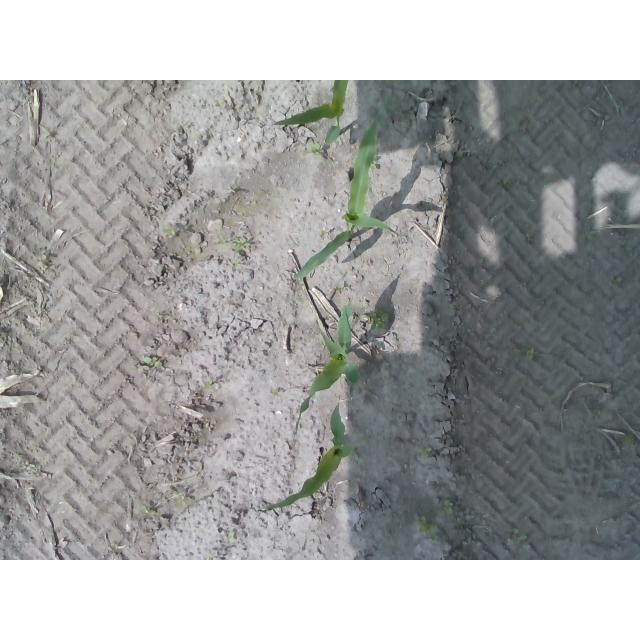Maize: (295, 101, 398, 280), (259, 402, 365, 515), (294, 301, 363, 435), (274, 80, 350, 144)
Weeds: (217, 235, 252, 251), (418, 515, 439, 541), (136, 355, 160, 374), (368, 311, 391, 330), (513, 346, 537, 361), (443, 499, 460, 517), (163, 224, 176, 237), (512, 534, 528, 544), (418, 447, 434, 457), (176, 492, 187, 506), (308, 144, 320, 156), (500, 177, 513, 188), (22, 463, 35, 471), (448, 304, 457, 313), (277, 124, 288, 129), (145, 507, 152, 514)
